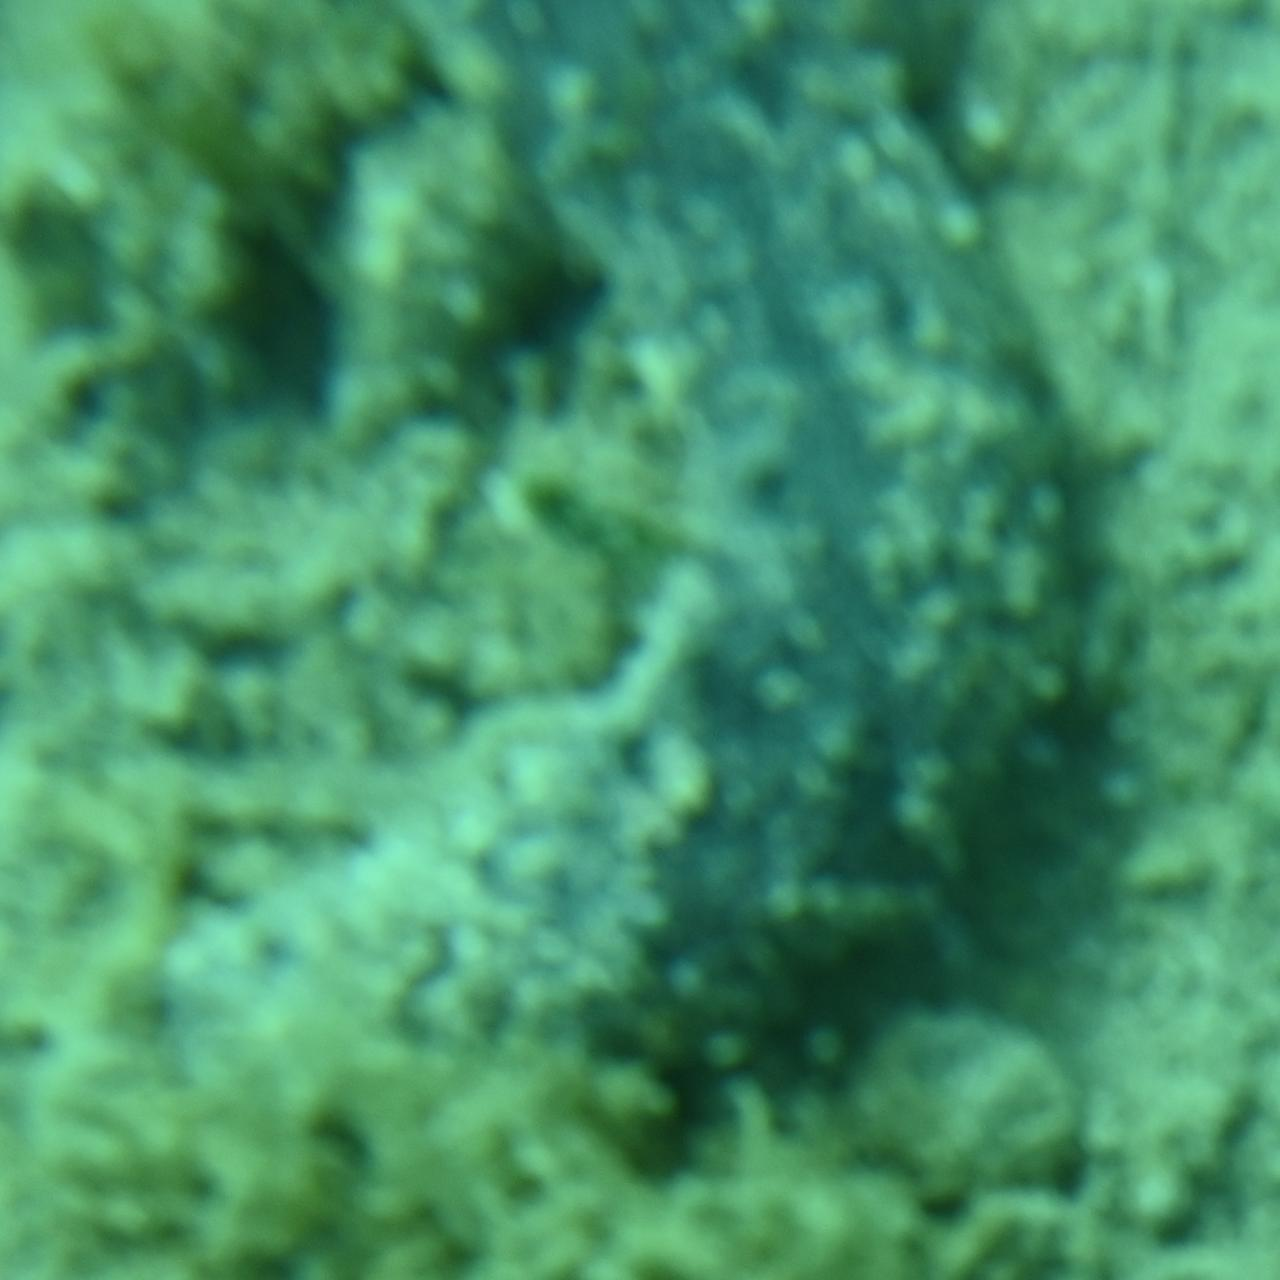Holothuria tubulosa: (144, 2, 1136, 1136)
